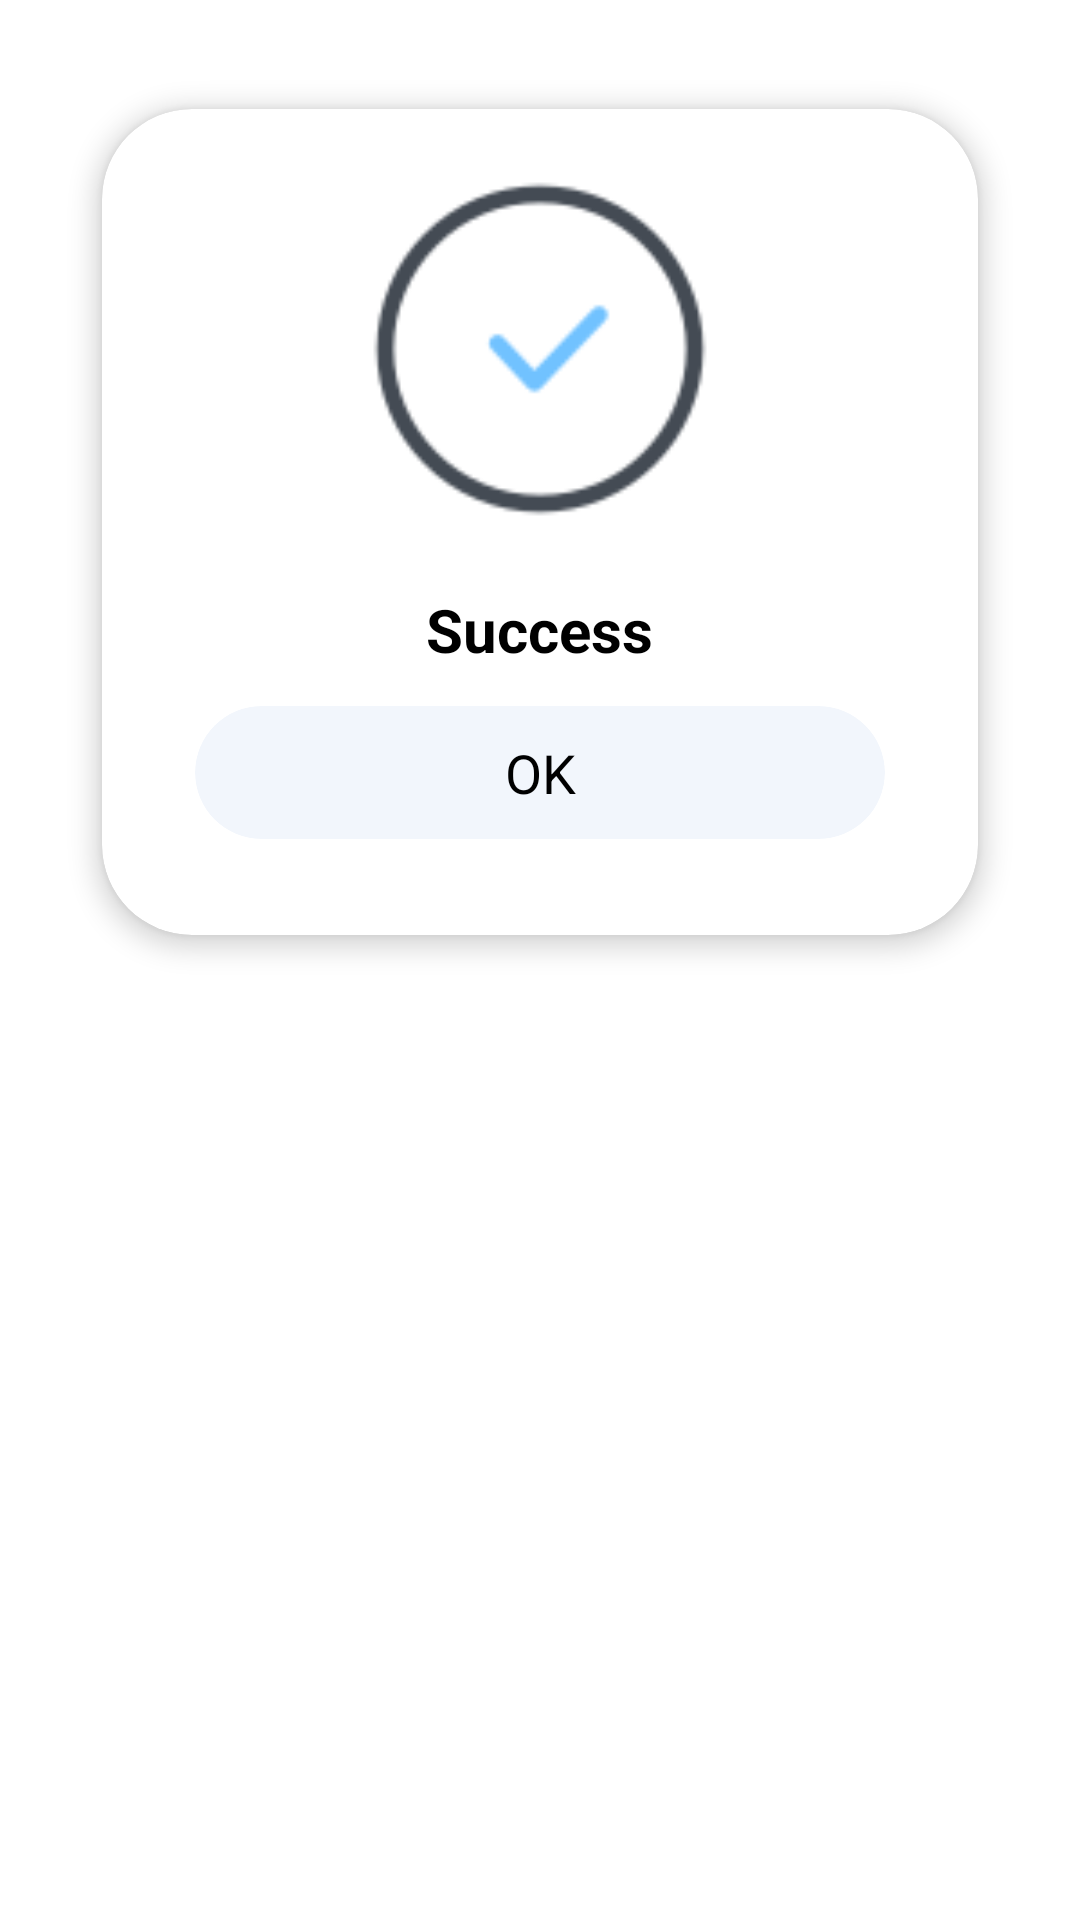

Icons on this 1080 × 1920 Android screen, each with its box as {"left": x1, "top": y1, "right": x2, "bottom": y2}:
checkmark: {"left": 374, "top": 183, "right": 706, "bottom": 515}
